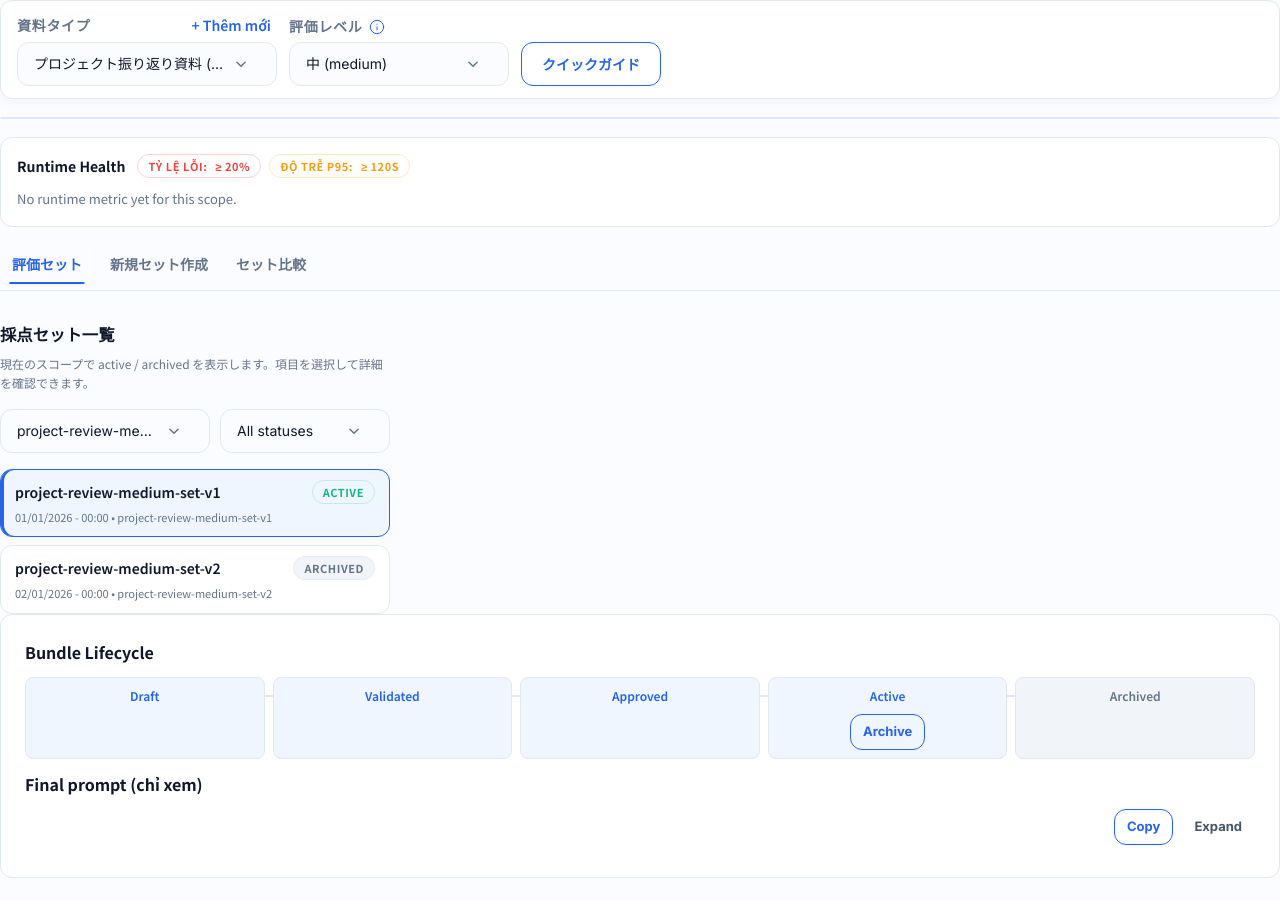
AIConfigurationConsole › opens bootstrap dialog for new document type
Click the button "+ Thêm mới". click: (231, 26)
box: [186,13,277,38]
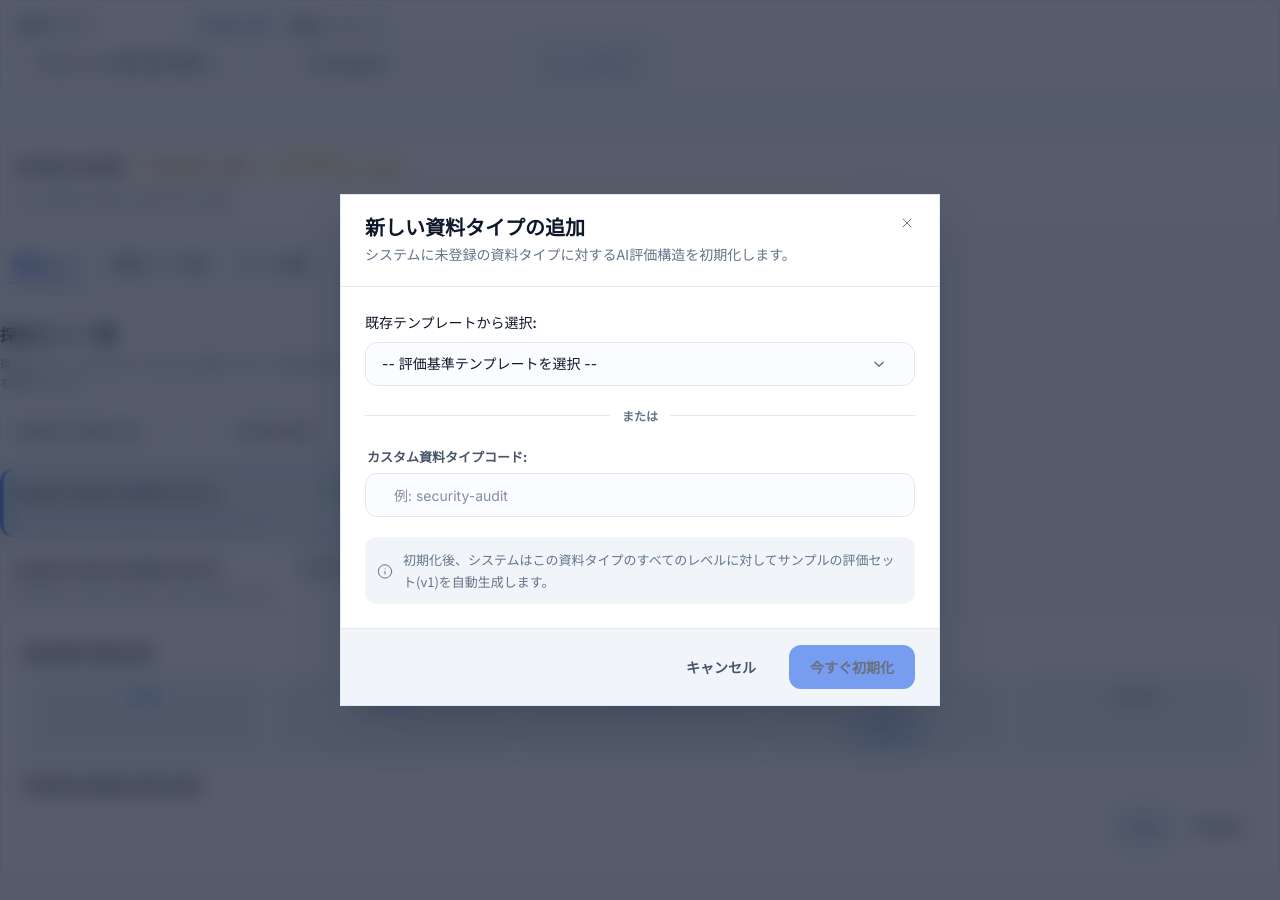
Expected: the button "今すぐ初期化" is shown, [789,645,915,689]
